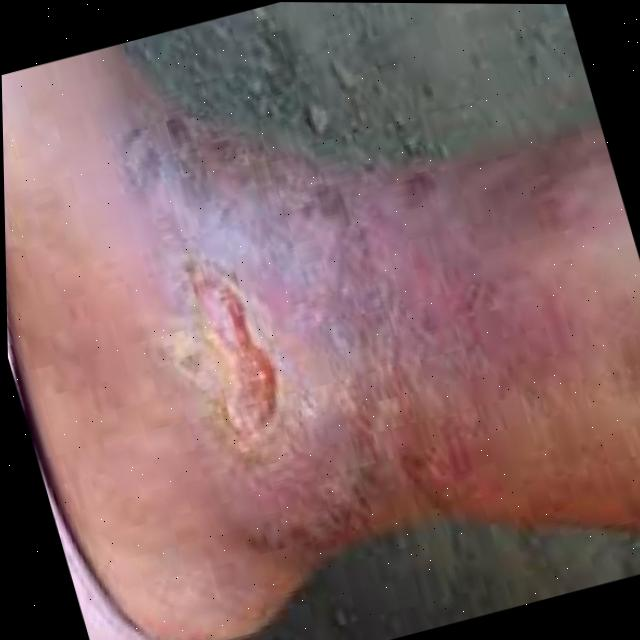Eczema: (91, 58, 619, 560)
